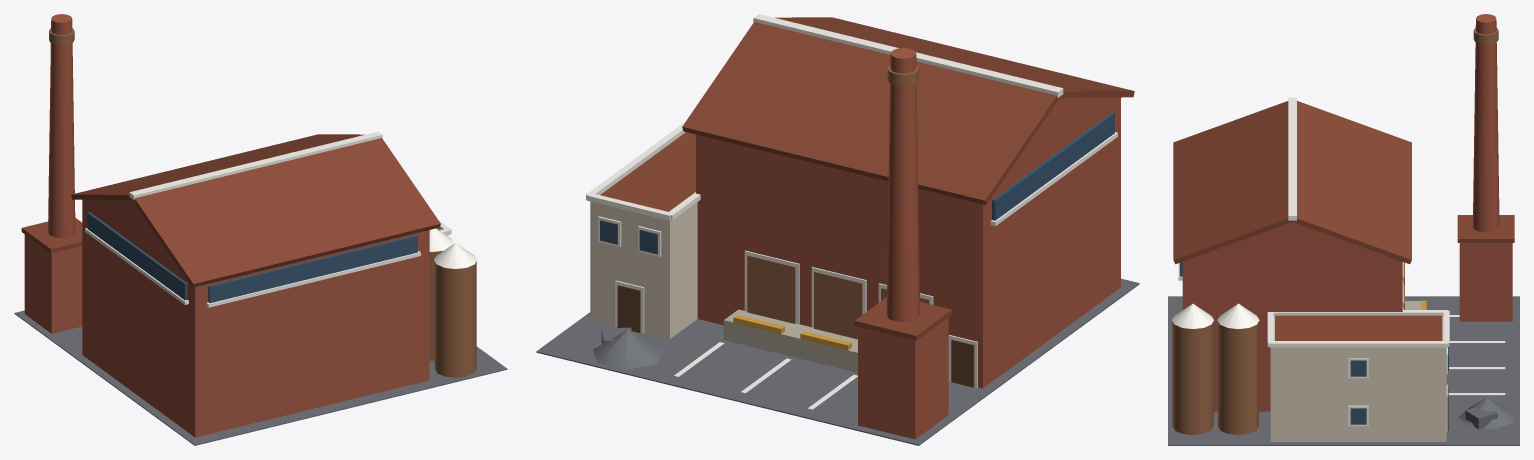
3 views of the same model, side by side, from view 1: azimuth 30°, elevation 25°; view 2: azimuth 150°, elevation 25°; view 3: azimuth 270°, elevation 25° (orthographic). The views are drawn at different scales.
Visible parts, largest first — view 1: hall, roof (×2), window_band (×2), silo (×2), smoke_stack, yard, boiler_house, ridge, gable, sill (×2), boiler_roof, silo_top; view 2: hall, roof (×3), yard, office, boiler_house, smoke_stack, garage_door (×2), dock, window_band, ridge, gable, door (×2) (+5 smaller); view 3: roof (×3), office, hall, yard, silo (×2), smoke_stack, boiler_house, gable, parapet (×2), silo_top (×2), heap (×2), boiler_roof (+1 smaller).
Boxes of the visible parts, left/top/right/bottom form: hall: left=82, top=199, right=429, bottom=437; roof (×2): left=71, top=134, right=440, bottom=287; window_band (×2): left=87, top=212, right=417, bottom=303; silo (×2): left=429, top=251, right=476, bottom=377; smoke_stack: left=48, top=14, right=75, bottom=238; yard: left=14, top=310, right=507, bottom=445; boiler_house: left=24, top=234, right=82, bottom=333; ridge: left=129, top=131, right=382, bottom=200; gable: left=84, top=199, right=179, bottom=269; sill (×2): left=85, top=228, right=420, bottom=307; boiler_roof: left=21, top=218, right=82, bottom=253; silo_top: left=434, top=243, right=477, bottom=268; hall: left=696, top=97, right=1120, bottom=388; roof (×3): left=600, top=17, right=1134, bottom=211; yard: left=536, top=278, right=1139, bottom=445; office: left=590, top=201, right=697, bottom=338; boiler_house: left=858, top=317, right=948, bottom=439; smoke_stack: left=886, top=48, right=920, bottom=322; garage_door (×2): left=747, top=255, right=862, bottom=339; dock: left=723, top=309, right=857, bottom=372; window_band: left=992, top=112, right=1114, bottom=220; ridge: left=753, top=14, right=1063, bottom=97; gable: left=1002, top=97, right=1117, bottom=182; door (×2): left=617, top=285, right=974, bottom=387; roof (×3): left=1173, top=101, right=1442, bottom=340; office: left=1270, top=316, right=1446, bottom=441; hall: left=1182, top=258, right=1402, bottom=411; yard: left=1168, top=296, right=1519, bottom=445; silo (×2): left=1172, top=321, right=1258, bottom=434; smoke_stack: left=1472, top=14, right=1499, bottom=232; boiler_house: left=1459, top=243, right=1512, bottom=321; gable: left=1192, top=222, right=1393, bottom=258; parapet (×2): left=1269, top=310, right=1447, bottom=347; silo_top (×2): left=1172, top=303, right=1259, bottom=328; heap (×2): left=1458, top=397, right=1513, bottom=429; boiler_roof: left=1457, top=215, right=1514, bottom=242.
Bounding box in the file's own units: 24 × 22.07 × 24.
